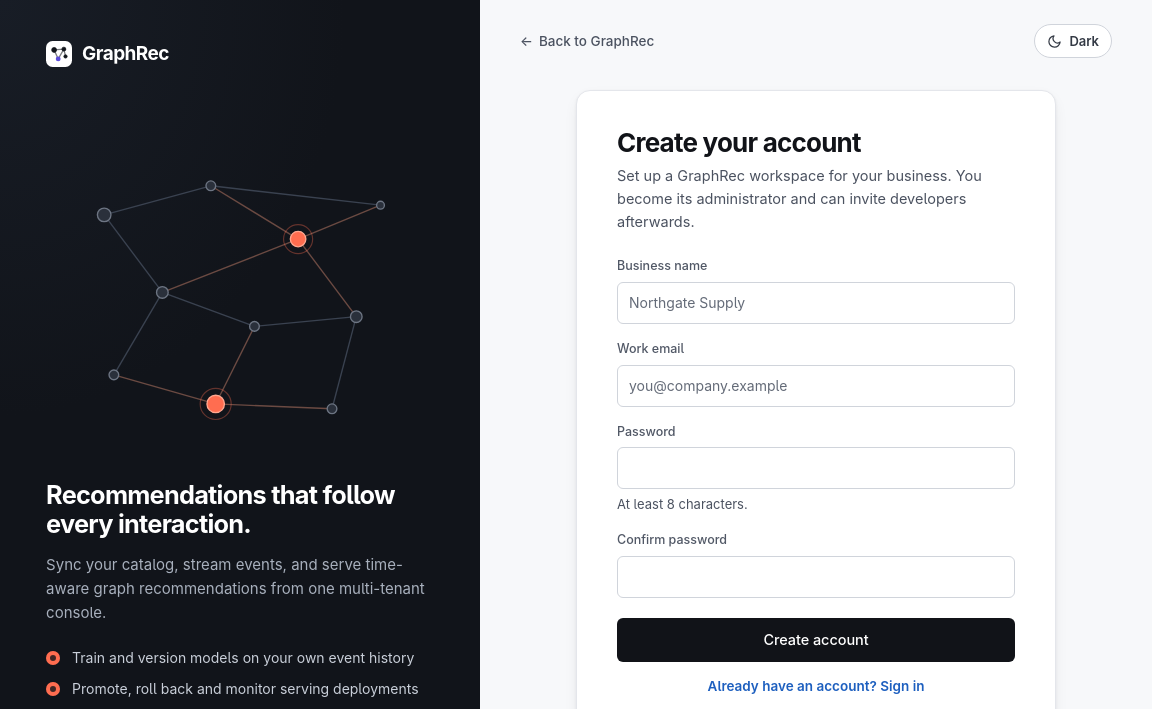
it: RegisterPage › reports a repeated registration inline and keeps the form filled
Step 1. Type "Kelder Tools" into the field labelled "Business name" → point(816, 303), box [617,282,1015,324]
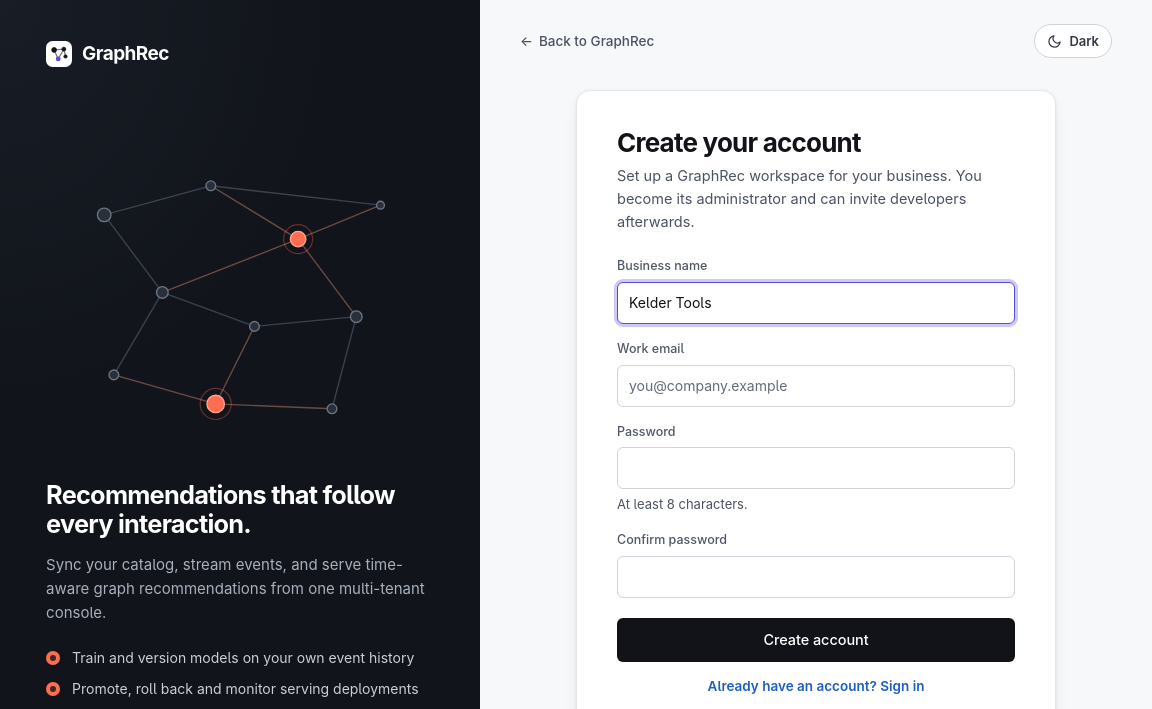
Step 2. Type "ops@kelder.example" into the field labelled "Work email" → point(816, 386), box [617,365,1015,407]
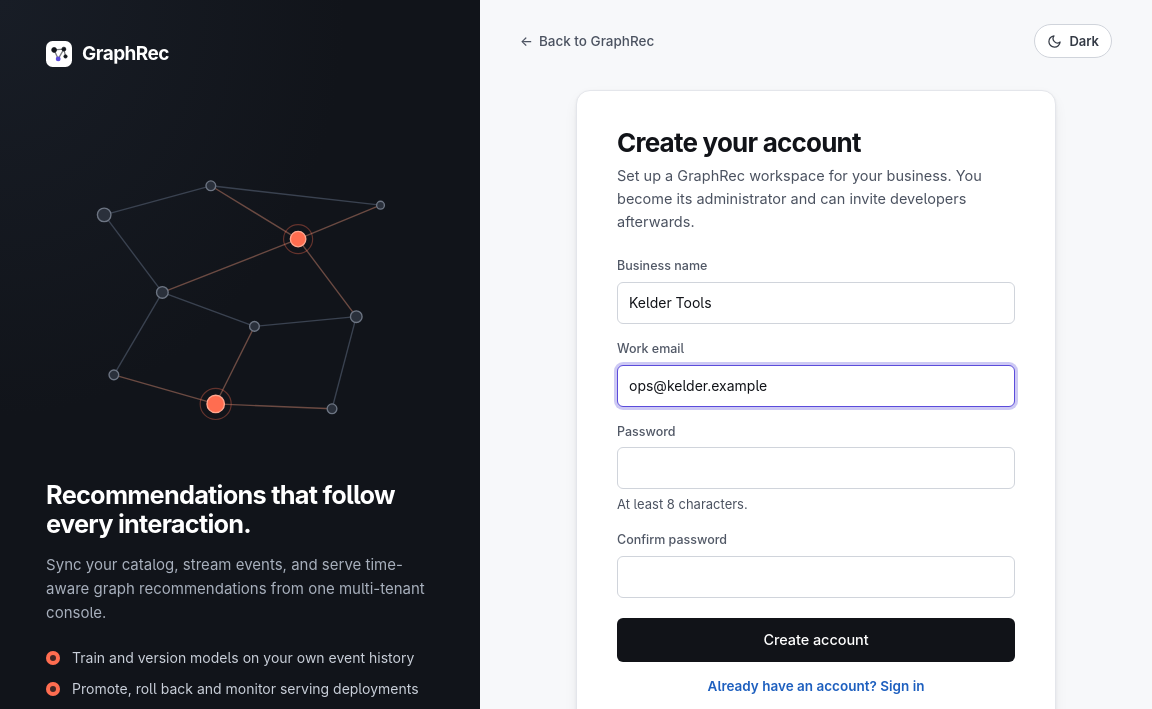
Step 3. Type "a-good-password" into the password field labelled "Password" → point(816, 468), box [617,447,1015,489]
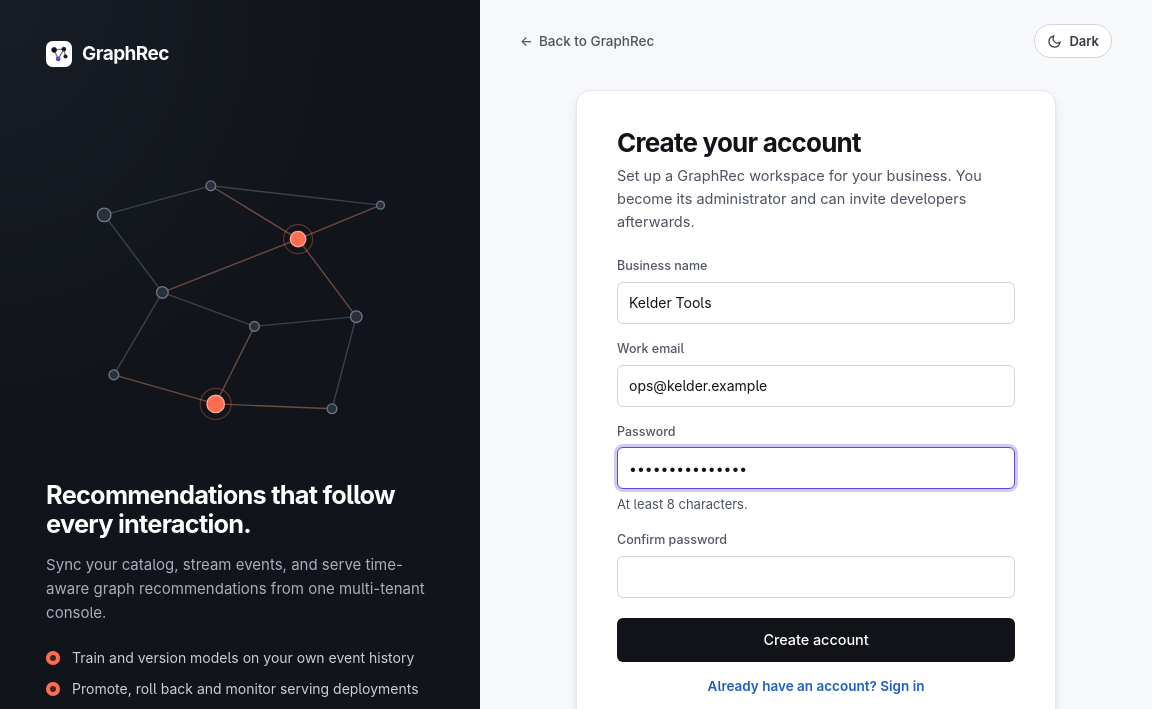
Step 4. Type "a-good-password" into the password field labelled "Confirm password" → point(816, 577), box [617,556,1015,598]
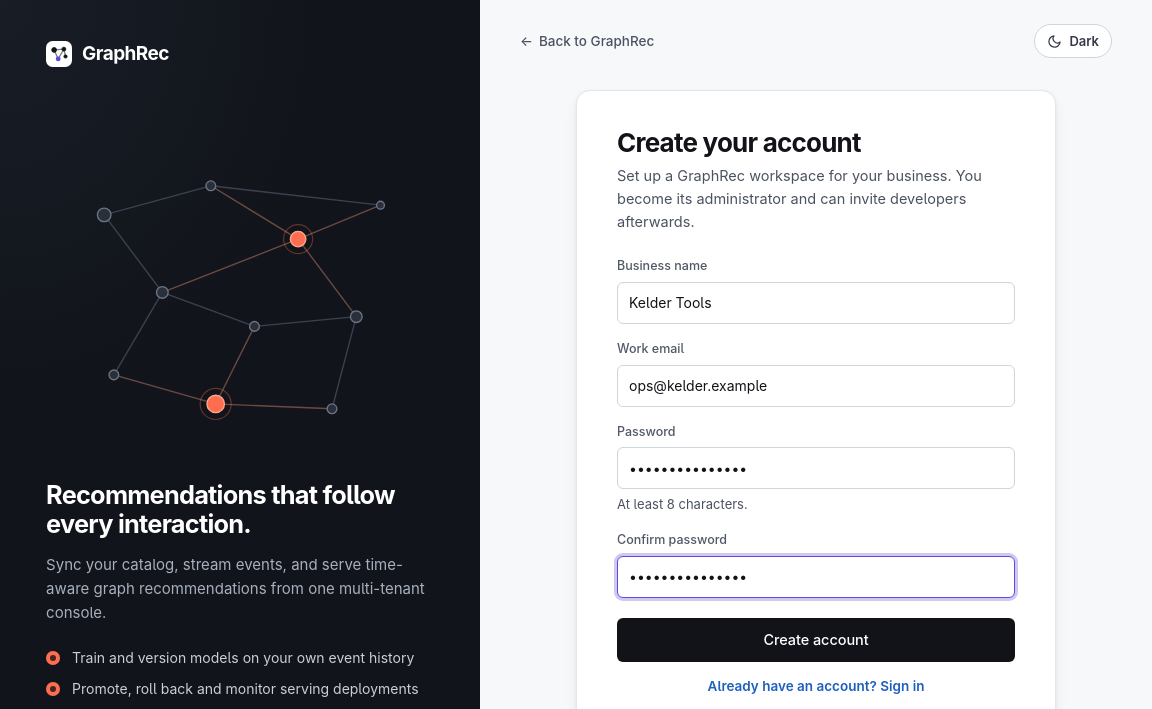
Step 5. Click the button "Create account" → point(816, 640), box [617,618,1015,662]
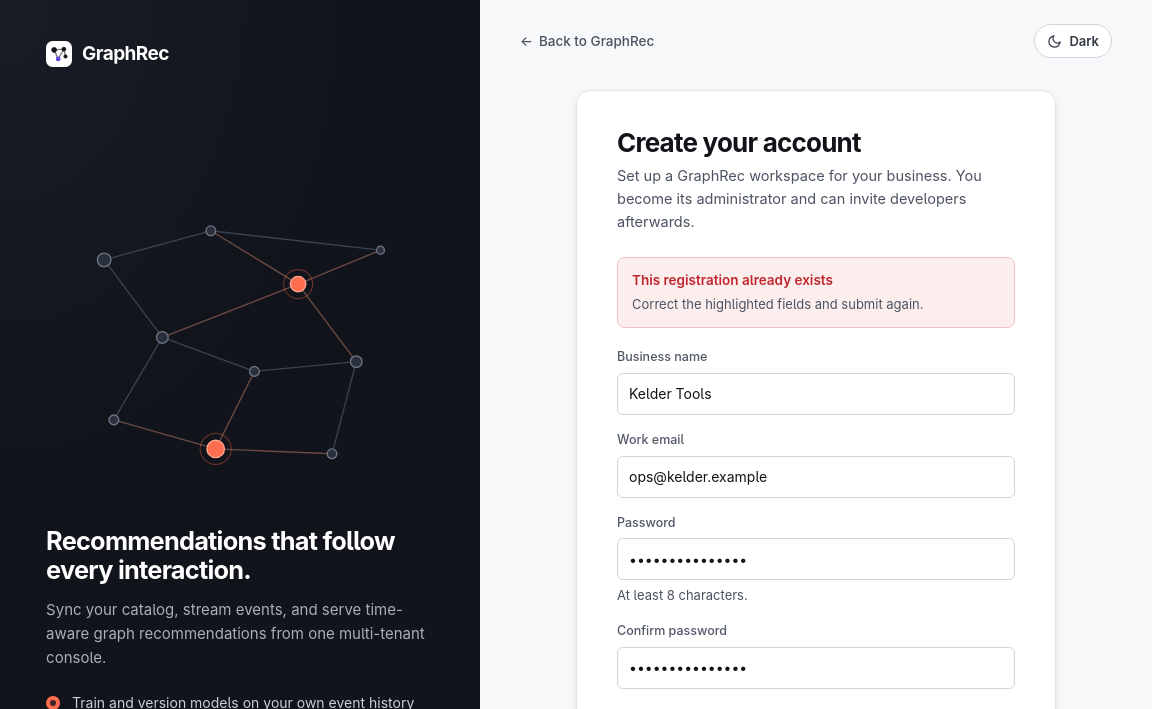
Expected: the text "This registration already exists" is shown, [632,272,833,288]
